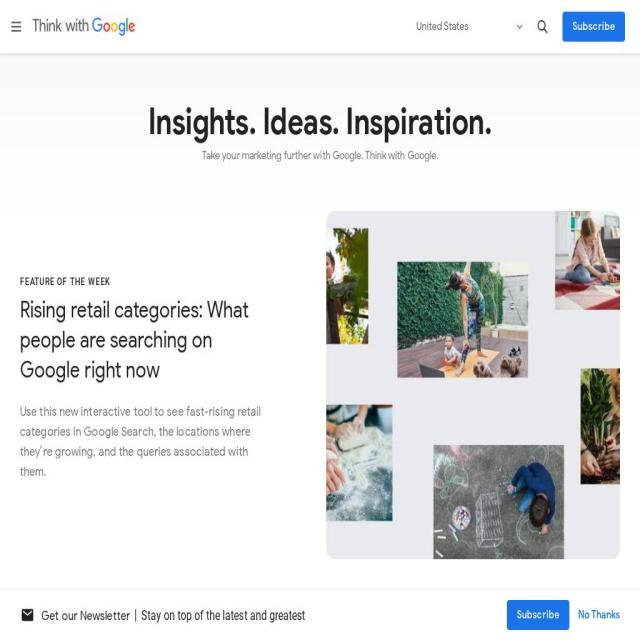button: (326, 211, 620, 559), (20, 295, 263, 482), (21, 17, 135, 36), (563, 12, 625, 42), (507, 600, 569, 630), (578, 600, 620, 630), (11, 20, 21, 33), (538, 20, 548, 33)
field: (417, 18, 522, 35)
heading: (20, 101, 620, 144), (20, 295, 263, 385), (20, 639, 314, 640)
image: (326, 211, 620, 559), (33, 17, 135, 36), (20, 606, 35, 625), (11, 20, 21, 33), (538, 20, 548, 33), (517, 24, 522, 29)
link: (20, 402, 263, 482)
text: (20, 148, 620, 164), (141, 606, 305, 626), (20, 275, 263, 288), (42, 606, 140, 626)
